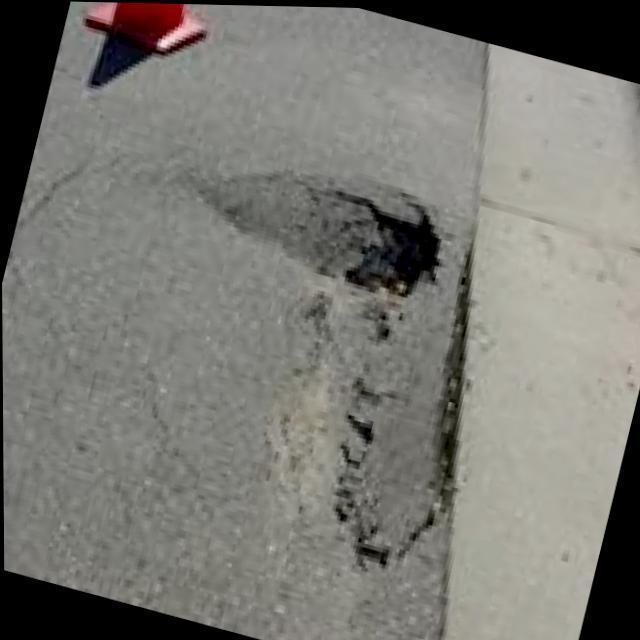Pothole: (329, 239, 480, 578), (184, 166, 450, 306)
